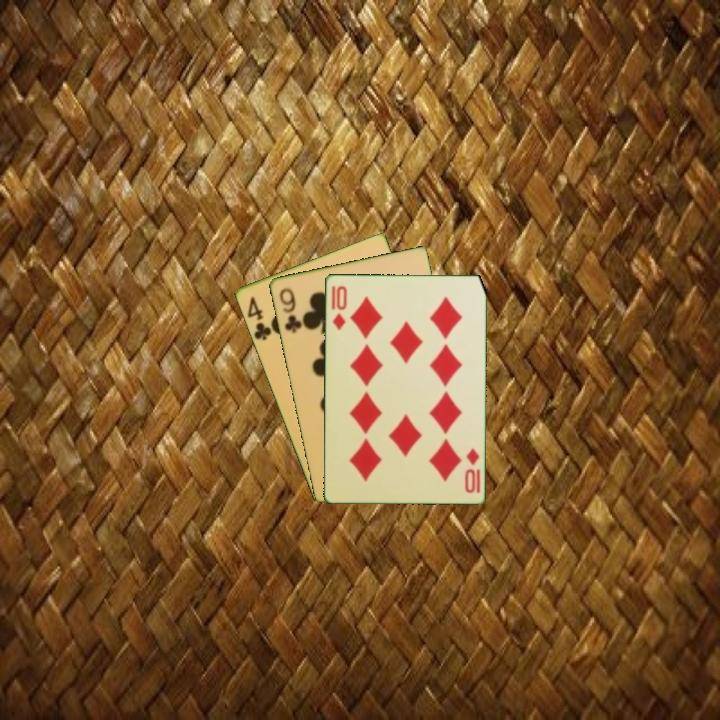10d: (461, 444, 482, 495), (329, 282, 349, 333)
4c: (243, 293, 277, 343)
9c: (275, 284, 304, 335)
